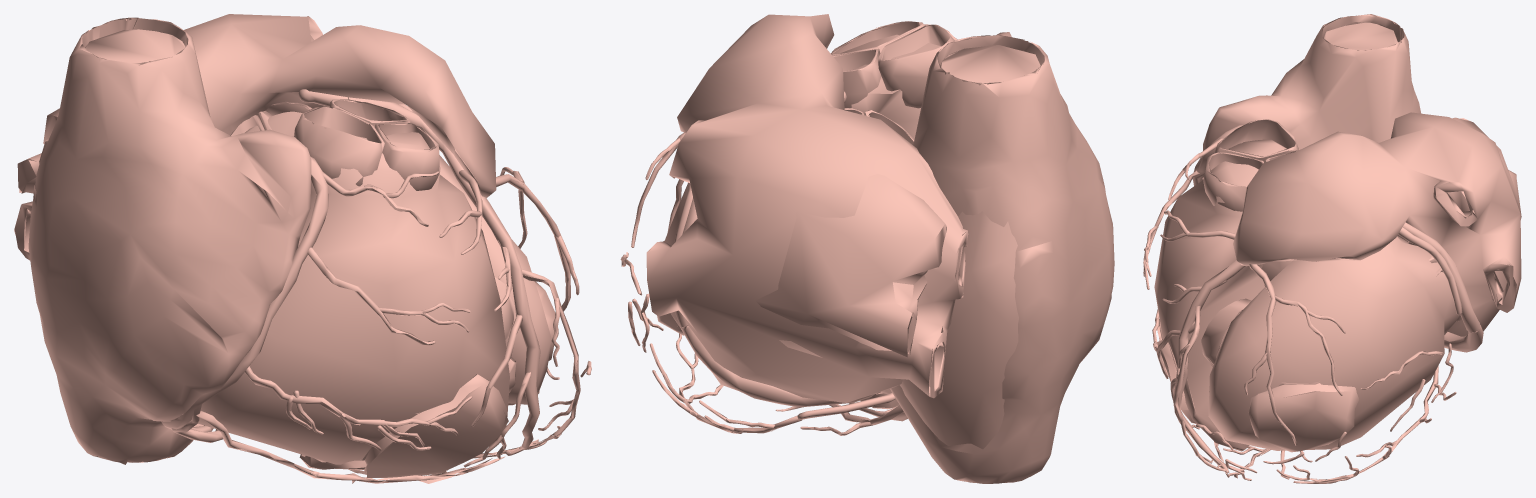
File: heart.glb
3 renders of one model, left to right at view 1: azimuth 30°, elevation 25°; view 2: azimuth 150°, elevation 25°; view 3: azimuth 270°, elevation 25°, orthographic. The views are drawn at different scales.
Visible parts, largest first — view 1: FJ2439, FJ2423, FJ2438, FJ2419, FJ2434, FJ2631, FJ2422, FJ2723, FJ2424, FJ2417, FJ2727, FJ2672 (+8 smaller); view 2: FJ2438, FJ2439, FJ2425, FJ2424, FJ2434, FJ2655, FJ2423, FJ2427, FJ2417, FJ2723, FJ2714, FJ2633 (+1 smaller); view 3: FJ2438, FJ2422, FJ2439, FJ2423, FJ2429, FJ2631, FJ2434, FJ2417, FJ2424, FJ2418, FJ2656, FJ2642 (+9 smaller).
Part boxes in pixels (x1,y1,x2,y2): FJ2439: [28, 17, 311, 464]; FJ2423: [198, 132, 509, 464]; FJ2438: [14, 14, 496, 260]; FJ2419: [362, 374, 508, 477]; FJ2434: [294, 106, 384, 186]; FJ2631: [348, 97, 540, 449]; FJ2422: [245, 111, 551, 404]; FJ2723: [161, 156, 328, 432]; FJ2424: [85, 29, 185, 62]; FJ2417: [374, 123, 439, 190]; FJ2727: [196, 411, 505, 483]; FJ2672: [245, 366, 424, 446]; FJ2438: [646, 14, 968, 402]; FJ2439: [890, 32, 1114, 483]; FJ2425: [756, 174, 946, 357]; FJ2424: [900, 45, 1040, 449]; FJ2434: [878, 24, 954, 108]; FJ2655: [681, 326, 875, 407]; FJ2423: [839, 34, 940, 394]; FJ2427: [832, 49, 881, 108]; FJ2417: [831, 21, 924, 54]; FJ2723: [797, 393, 895, 420]; FJ2714: [679, 368, 801, 433]; FJ2633: [631, 132, 685, 247]; FJ2438: [1233, 112, 1521, 336]; FJ2422: [1208, 236, 1459, 450]; FJ2439: [1192, 14, 1421, 180]; FJ2423: [1154, 139, 1286, 451]; FJ2429: [1248, 381, 1359, 452]; FJ2631: [1173, 260, 1244, 473]; FJ2434: [1214, 119, 1298, 162]; FJ2417: [1203, 152, 1263, 211]; FJ2424: [1323, 22, 1397, 49]; FJ2418: [1201, 298, 1251, 391]; FJ2656: [1403, 222, 1480, 332]; FJ2642: [1249, 264, 1297, 445].
Size of the model in its own units: 0.3472 by 0.3145 by 0.3185.
